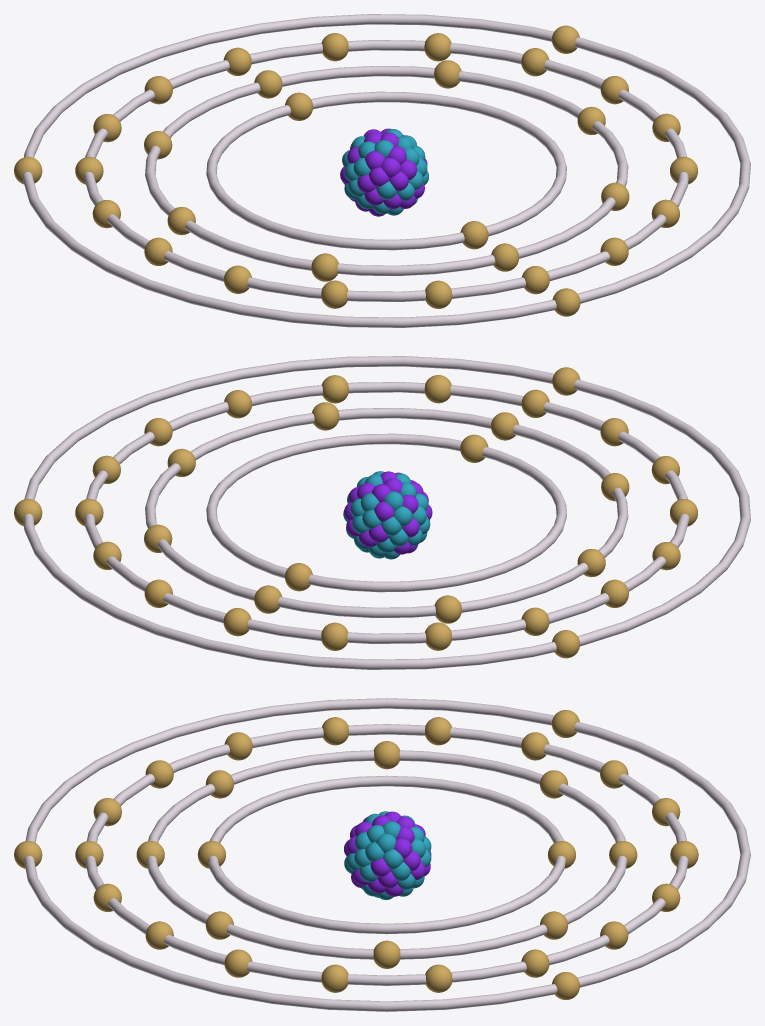
Rendered from galio.glb.
3 views of the same model, one above another, from view 1: azimuth 30°, elevation 25°; view 2: azimuth 150°, elevation 25°; view 3: azimuth 270°, elevation 25° (orthographic).
Visible parts, largest first — view 1: Orbita_4, Orbita_3, Orbita_2, Orbita_1, Nucleo_Completo, Eletron_C2_8, Eletron_C3_8, Eletron_C3_9, Eletron_C3_17, Eletron_C3_18, Eletron_C4_1, Eletron_C2_4 (+24 smaller); view 2: Orbita_4, Orbita_3, Orbita_2, Orbita_1, Nucleo_Completo, Eletron_C3_11, Eletron_C3_2, Eletron_C2_2, Eletron_C3_3, Eletron_C2_6, Eletron_C3_12, Eletron_C3_10 (+24 smaller); view 3: Orbita_4, Orbita_3, Orbita_2, Orbita_1, Nucleo_Completo, Eletron_C2_3, Eletron_C3_6, Eletron_C3_5, Eletron_C2_7, Eletron_C3_15, Eletron_C3_14, Eletron_C3_4 (+24 smaller).
Boxes of the visible parts, x1,y1,x2,y2 form: Orbita_4: (22,14,750,327); Orbita_3: (83,40,688,301); Orbita_2: (145,66,628,275); Orbita_1: (206,91,566,250); Nucleo_Completo: (340,128,428,216); Eletron_C2_8: (311,253,338,281); Eletron_C3_8: (424,33,451,61); Eletron_C3_9: (321,33,348,61); Eletron_C3_17: (321,280,348,308); Eletron_C3_18: (425,280,452,308); Eletron_C4_1: (552,288,580,316); Eletron_C2_4: (434,60,461,88); Orbita_4: (23,356,750,669); Orbita_3: (84,382,689,643); Orbita_2: (145,408,628,617); Orbita_1: (206,433,566,592); Nucleo_Completo: (343,471,432,559); Eletron_C3_11: (321,622,348,650); Eletron_C3_2: (424,375,451,403); Eletron_C2_2: (312,402,339,430); Eletron_C3_3: (321,375,348,403); Eletron_C2_6: (434,595,461,623); Eletron_C3_12: (425,622,451,650); Eletron_C3_10: (223,608,251,636); Orbita_4: (24,698,750,1011); Orbita_3: (85,724,688,985); Orbita_2: (146,750,627,959); Orbita_1: (208,775,565,934); Nucleo_Completo: (344,811,431,899); Eletron_C2_3: (373,940,400,968); Eletron_C3_6: (425,964,452,992); Eletron_C3_5: (321,964,348,992); Eletron_C2_7: (373,741,399,769); Eletron_C3_15: (322,717,348,745); Eletron_C3_14: (425,717,451,745); Eletron_C3_4: (224,949,252,977).
Bounding box in the file's own units: 4.16 × 0.5065 × 4.21.
